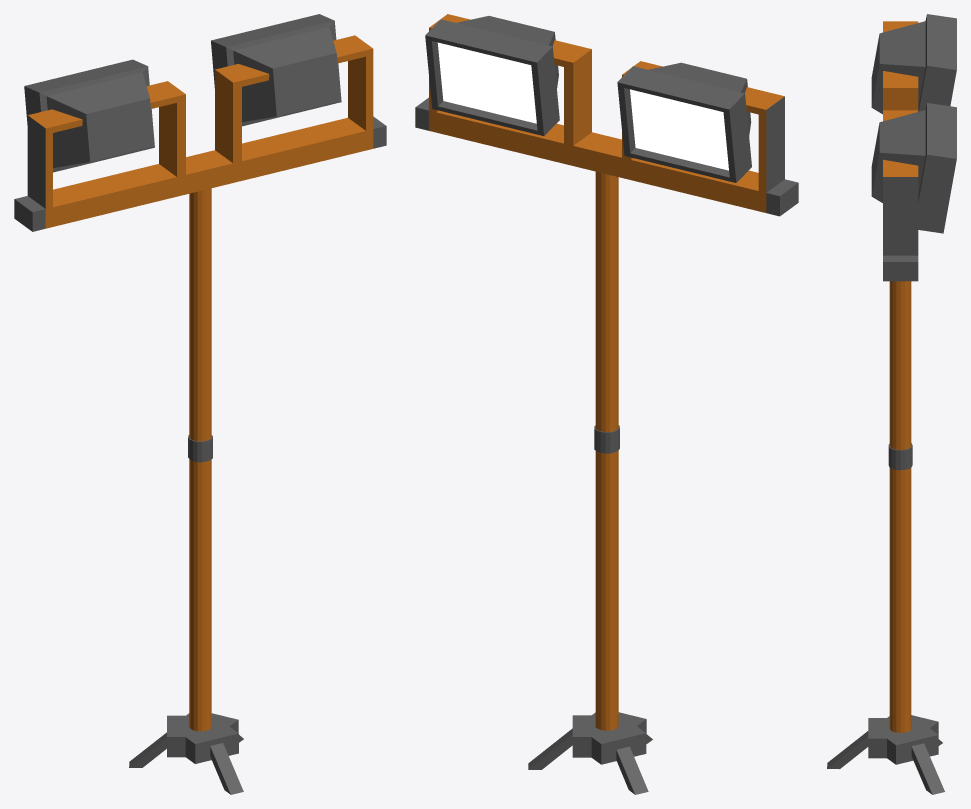
The model's file is flood light.fbx.
The picture shows the model from 3 angles, left to right: view 1: azimuth 30°, elevation 25°; view 2: azimuth 150°, elevation 25°; view 3: azimuth 270°, elevation 25°; orthographic projection. The views are drawn at different scales.
Visible parts, largest first — view 1: Plane.004; view 2: Plane.004; view 3: Plane.004.
Boxes of the visible parts, x1,y1,x2,y2 form: Plane.004: (14, 14, 386, 794); Plane.004: (415, 14, 798, 794); Plane.004: (827, 14, 956, 794).
Size of the model in its own units: 183 by 346 by 59.66.
